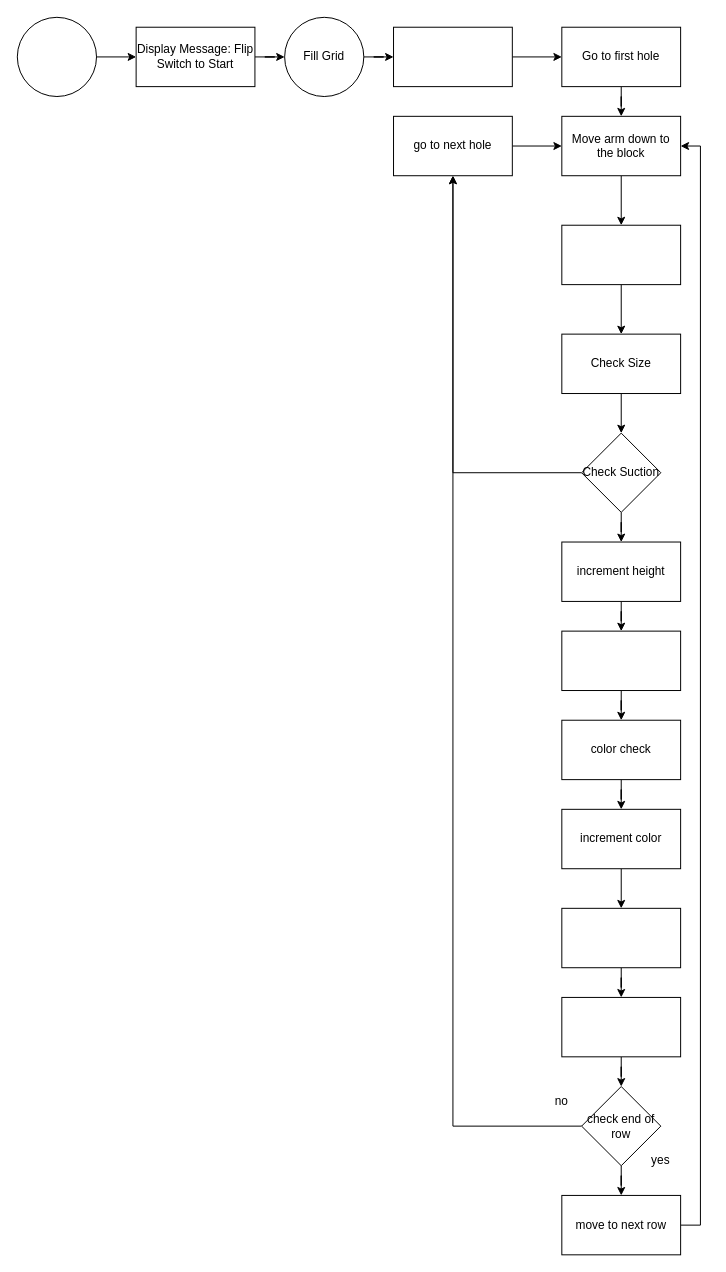
Image size: 726x1272. Some labels were removed from this diagram. Each missing label, with the centre of its shape:
"deactivate suction" goes at point (621, 1026).
"Flip Switch" goes at point (452, 56).
"Move arm to color detector" goes at point (621, 660).
"return block" goes at point (621, 937).
"Start Position" goes at point (56, 56).
"Suction Activation" goes at point (621, 254).
